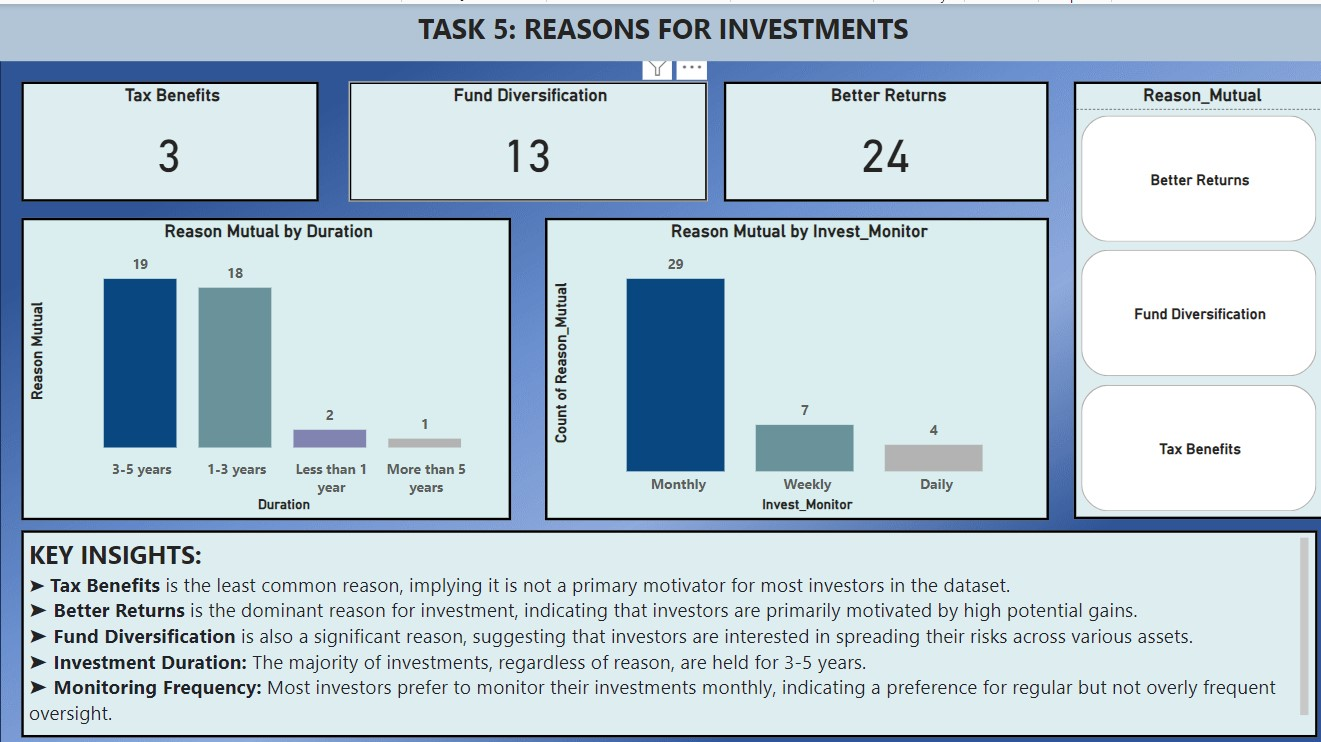

The page's visual inventory and layout, read from the dashboard file:
{"tool":"powerbi","page":{"name":"TASK 5","canvas":[1280,720],"ordinal":4},"visuals":[{"type":"card","title":"Better Returns","fields":{"Values":["Sales_data.Total_Better_Returns"]},"box":[698.5,74.8,313.7,115.8],"z":0},{"type":"card","title":"Fund Diversification","fields":{"Values":["Sales_data.Total_Fund_Diversification"]},"box":[336.6,74.8,346.2,115.8],"z":1000},{"type":"card","title":"Tax Benefits","fields":{"Values":["Sales_data.Total_Tax_Benefits"]},"box":[20.5,74.8,287.1,115.8],"z":2000},{"type":"columnChart","title":" Reason Mutual by Duration","fields":{"Category":["Sales_data.Duration"],"Y":["CountNonNull(Sales_data.Reason_Mutual)"]},"box":[20.5,206.3,472.9,292],"z":3000},{"type":"columnChart","title":"Reason Mutual by Invest_Monitor","fields":{"Category":["Sales_data.Invest_Monitor"],"Y":["CountNonNull(Sales_data.Reason_Mutual)"]},"box":[526,206.3,486.2,292],"z":4000},{"type":"advancedSlicerVisual","fields":{"Values":["Sales_data.Reason_Mutual"]},"box":[1036.3,74.8,243.7,422.3],"z":5000},{"type":"textbox","box":[0,0,1280.3,55],"z":6000},{"type":"textbox","box":[20.5,507.9,1251.1,200.3],"z":7000}]}

Visuals, with their boxes in screenshot pixels (x1, y1, x2, y2), scaled from the page's 1280x720 canvas onto the 1321x742 screenshot:
"Better Returns" card: region(721, 77, 1045, 196)
"Fund Diversification" card: region(347, 77, 705, 196)
"Tax Benefits" card: region(21, 77, 317, 196)
" Reason Mutual by Duration" columnChart: region(21, 213, 509, 514)
"Reason Mutual by Invest_Monitor" columnChart: region(543, 213, 1045, 514)
advancedSlicerVisual - Sales_data.Reason_Mutual: region(1069, 77, 1320, 512)
textbox: region(0, 0, 1320, 57)
textbox: region(21, 523, 1312, 730)
